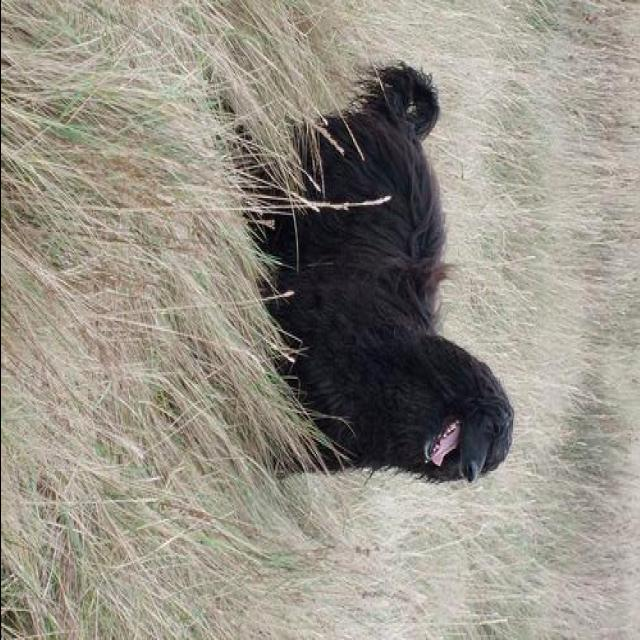afghan_hound: (256, 53, 514, 481)
